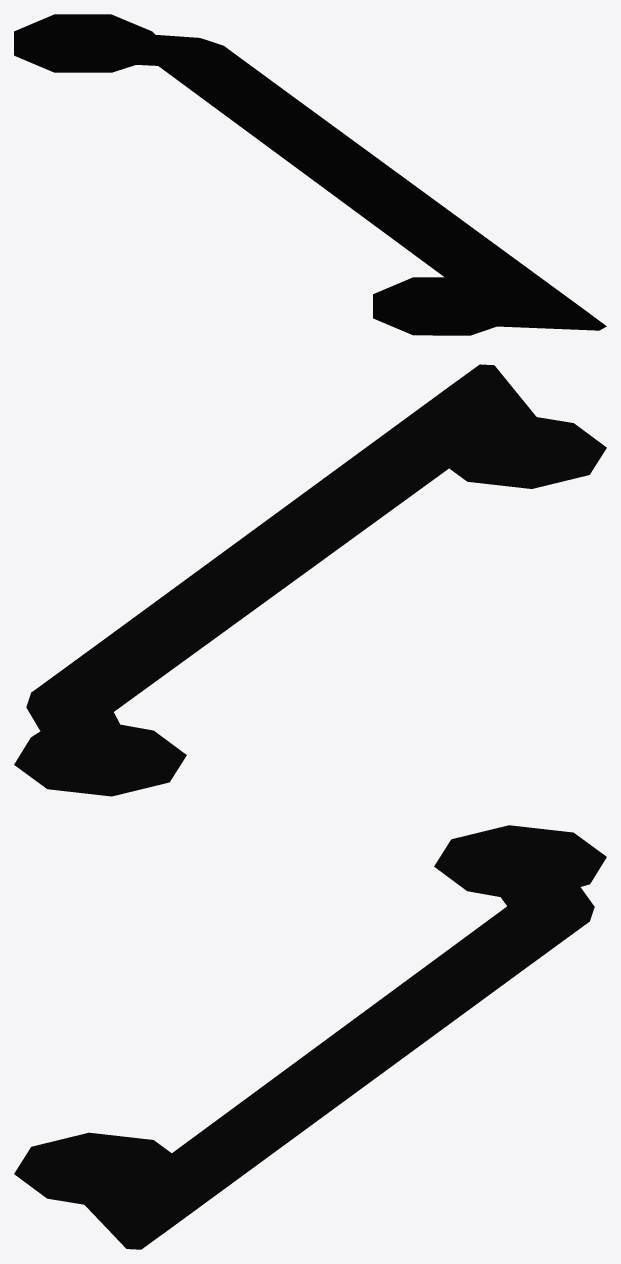
3 views of the same model, one above another, from view 1: azimuth 30°, elevation 25°; view 2: azimuth 150°, elevation 25°; view 3: azimuth 330°, elevation 25° (orthographic). The views are drawn at different scales.
Parts seen in each view (by area): view 1: Joint_0_Object_0, Joint_0_Object_1; view 2: Joint_0_Object_0, Joint_0_Object_1; view 3: Joint_0_Object_0, Joint_0_Object_1.
Part boxes in pixels (box(x1,y1,x2,y2)): Joint_0_Object_0: box(14, 14, 581, 335); Joint_0_Object_1: box(470, 298, 606, 335); Joint_0_Object_0: box(14, 385, 606, 796); Joint_0_Object_1: box(446, 364, 573, 437); Joint_0_Object_0: box(14, 825, 606, 1228); Joint_0_Object_1: box(48, 1184, 174, 1249).
Bounding box in the file's own units: 347 × 6.5 × 1695.
Materials: 1 (1 with a texture image).
